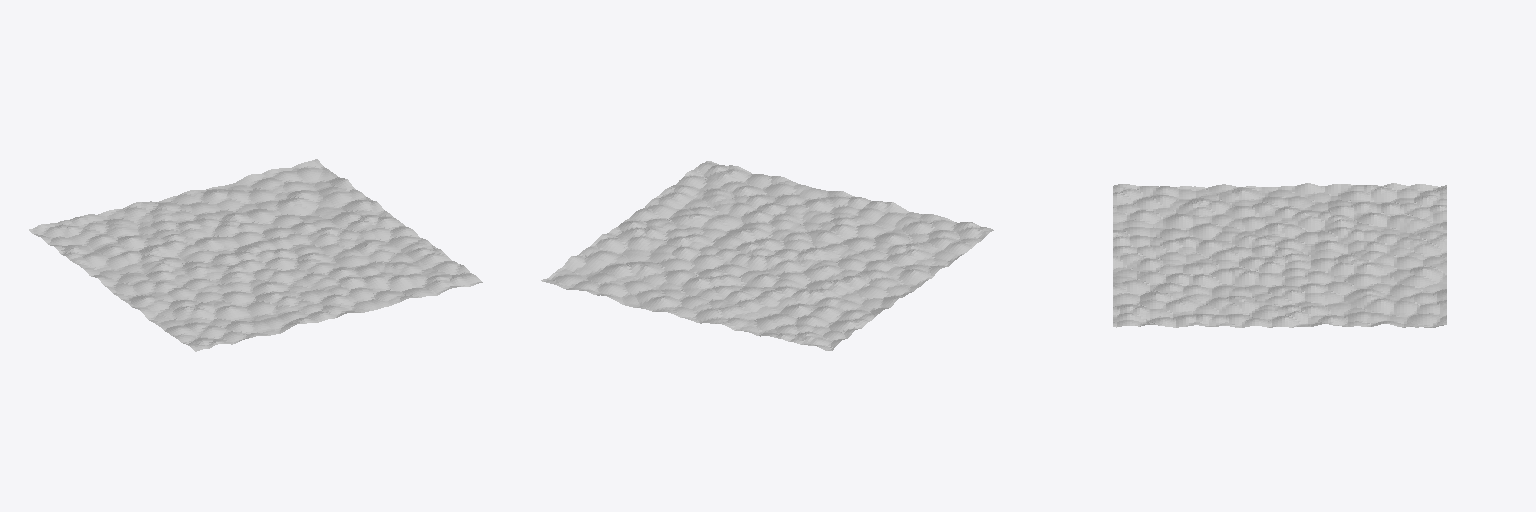
The model's file is planehill.obj.
3 views of the same model, side by side, from view 1: azimuth 30°, elevation 25°; view 2: azimuth 150°, elevation 25°; view 3: azimuth 270°, elevation 25° (orthographic).
Visible parts, largest first — view 1: Plane; view 2: Plane; view 3: Plane.
Boxes of the visible parts, box(x1,y1,x2,y2) form: Plane: box(29, 159, 482, 351); Plane: box(541, 161, 993, 350); Plane: box(1113, 183, 1446, 327).
Bounding box in the file's own units: 30.14 × 0.6454 × 30.14.